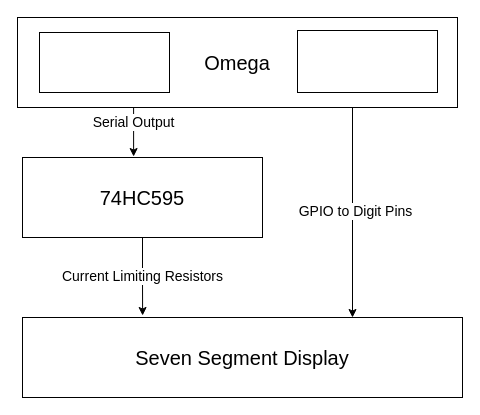
This 480x415 diagram has some shape labels left out. Here are the shapes that lost their labels. From the top down, the centre of each, then its label:
point (104, 62): Serial Logic
point (367, 61): Digit Pin Logic
